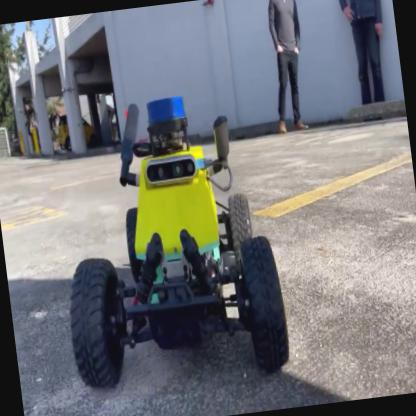mushr_car: (44, 83, 288, 390)
